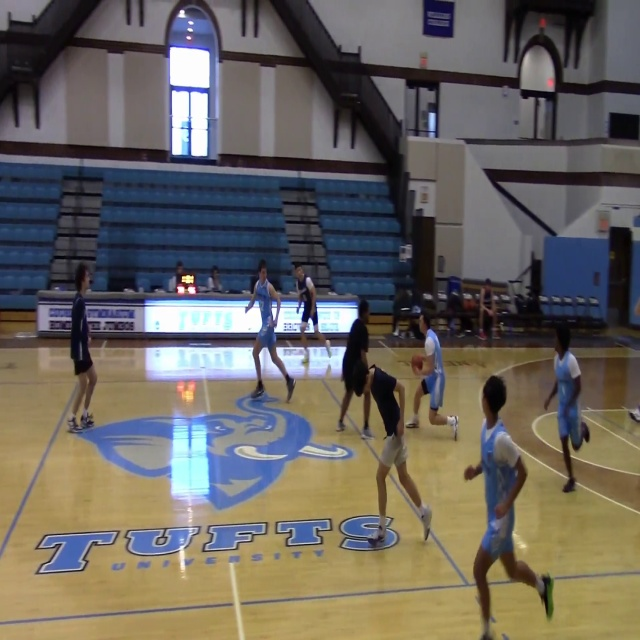Basketball: (410, 354, 433, 376), (411, 354, 424, 370)
